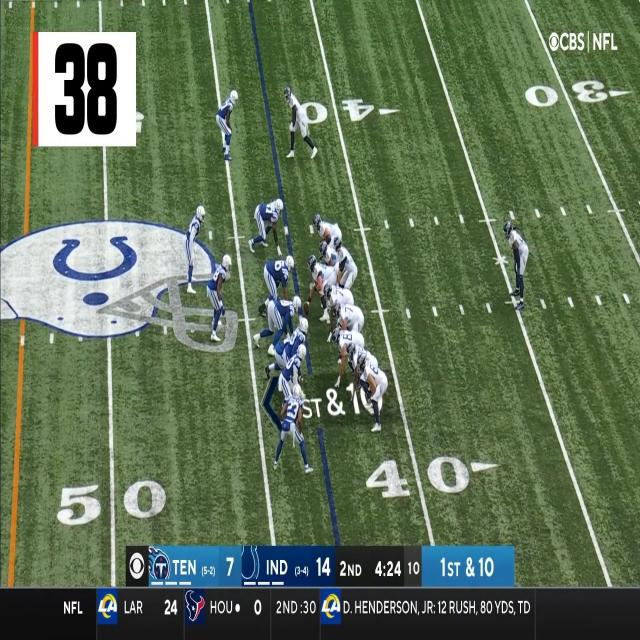football: (304, 302, 310, 315)
players: (274, 383, 314, 473), (284, 85, 318, 159), (256, 293, 300, 349), (358, 354, 388, 433), (504, 220, 530, 309), (248, 198, 286, 255), (278, 344, 307, 416), (308, 256, 338, 324), (210, 255, 233, 342), (184, 205, 206, 294), (259, 255, 295, 309), (333, 329, 364, 389), (283, 317, 309, 381), (217, 89, 239, 163), (348, 344, 378, 396), (332, 238, 358, 291), (322, 284, 354, 326), (312, 213, 342, 253), (332, 300, 364, 334), (319, 242, 344, 270)
